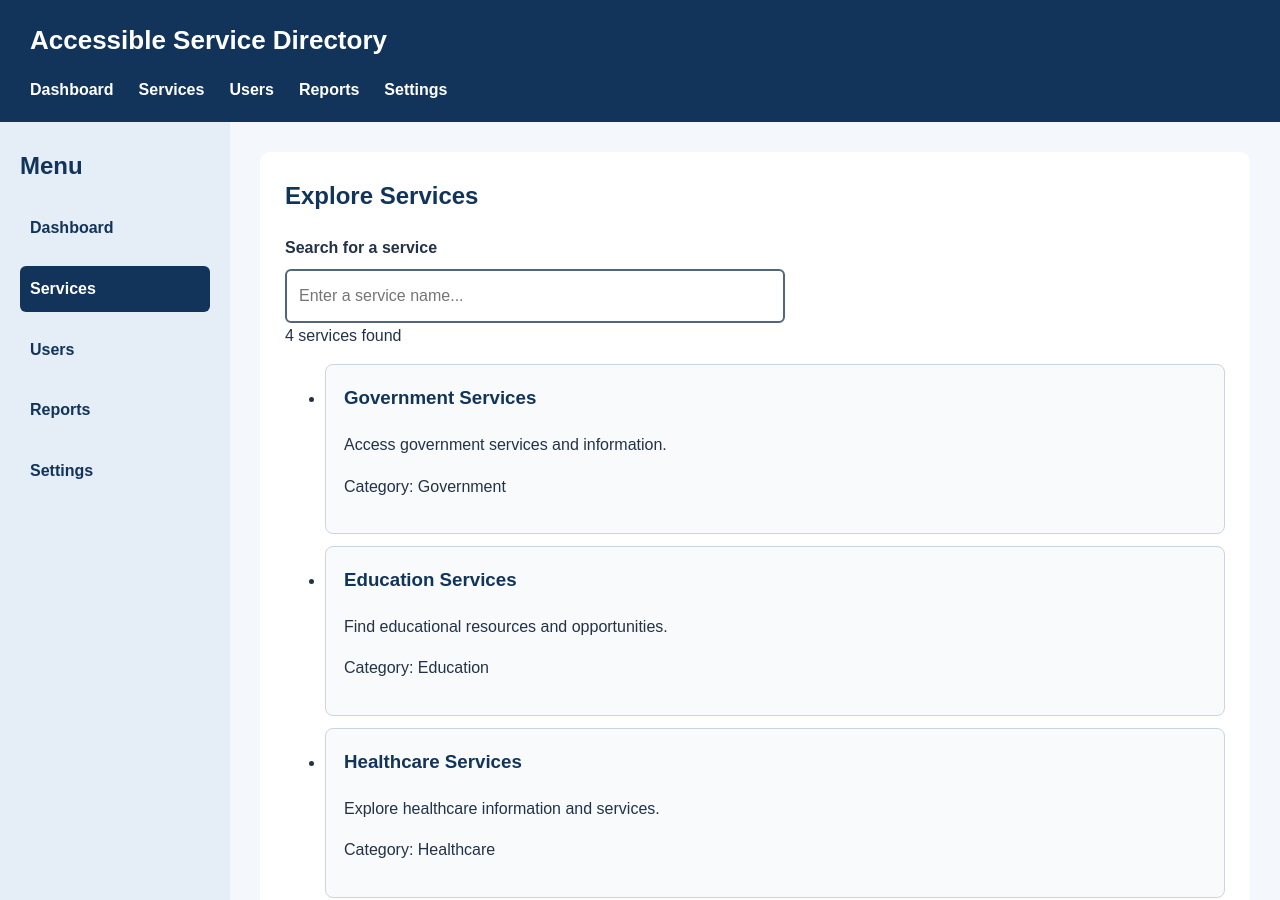
Scenario: Accessible Service Directory › filters services using the search box
The image size is (1280, 900).
Expected: the text "4 services found" is shown, 285,327 -> 402,344
Expected: the heading "Education Services" is shown, 344,569 -> 517,590
Type "Education" into the search field labelled "Search for a service" at (535, 296), box 285,269 -> 785,323
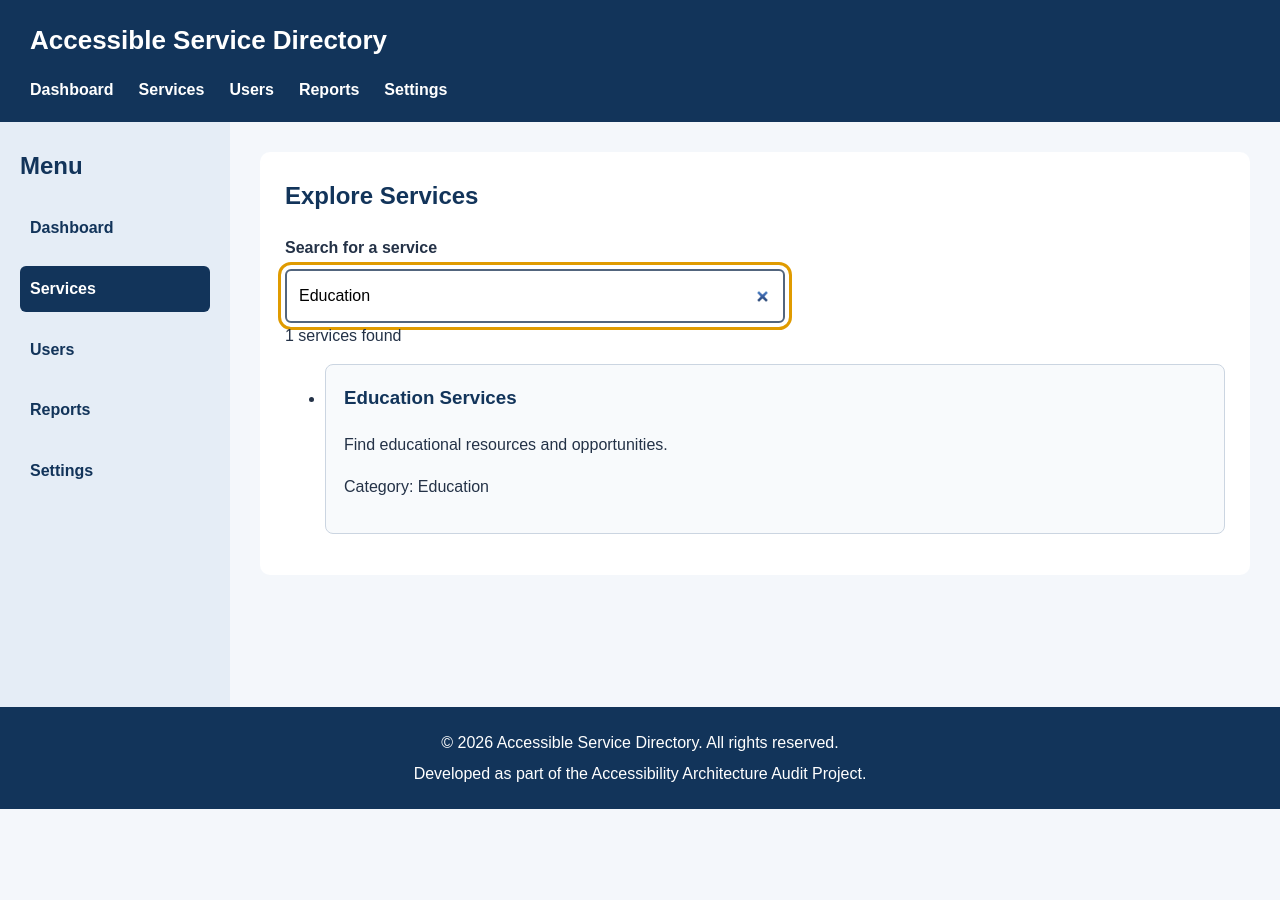
Expected: the heading "Education Services" is shown, 344,387 -> 517,408
Result: the heading "Government Services" is gone
